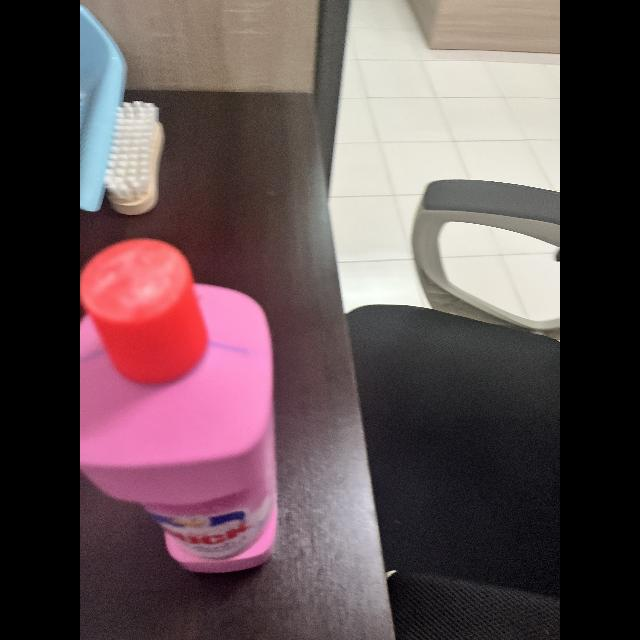chemical_plastic_bottle: (80, 232, 282, 580)
